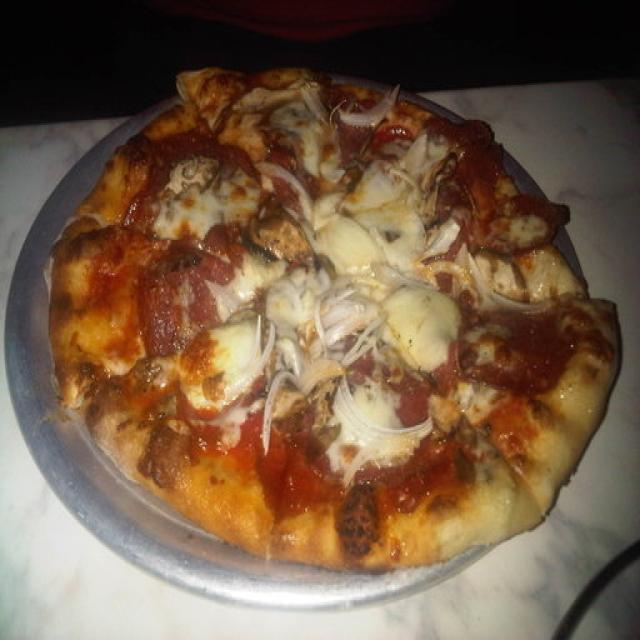Onions: (256, 258, 345, 334), (310, 277, 377, 361), (252, 318, 294, 446), (202, 311, 257, 405), (383, 294, 454, 364), (372, 210, 426, 301), (318, 215, 378, 278), (332, 162, 394, 215)
Pepperoni: (457, 310, 574, 383), (382, 344, 468, 427), (422, 123, 504, 201), (144, 128, 257, 184), (140, 261, 213, 342), (260, 119, 302, 208), (429, 211, 470, 292), (326, 93, 374, 153), (339, 328, 372, 376)
Pizza: (49, 68, 619, 572)
